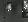person: (23, 1, 28, 19), (8, 3, 13, 12)
